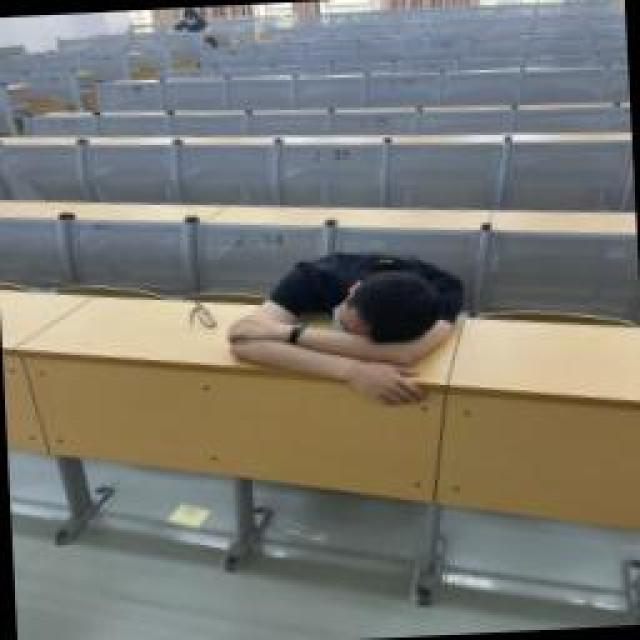sleep: (227, 242, 465, 410)
study: (167, 5, 205, 33)
